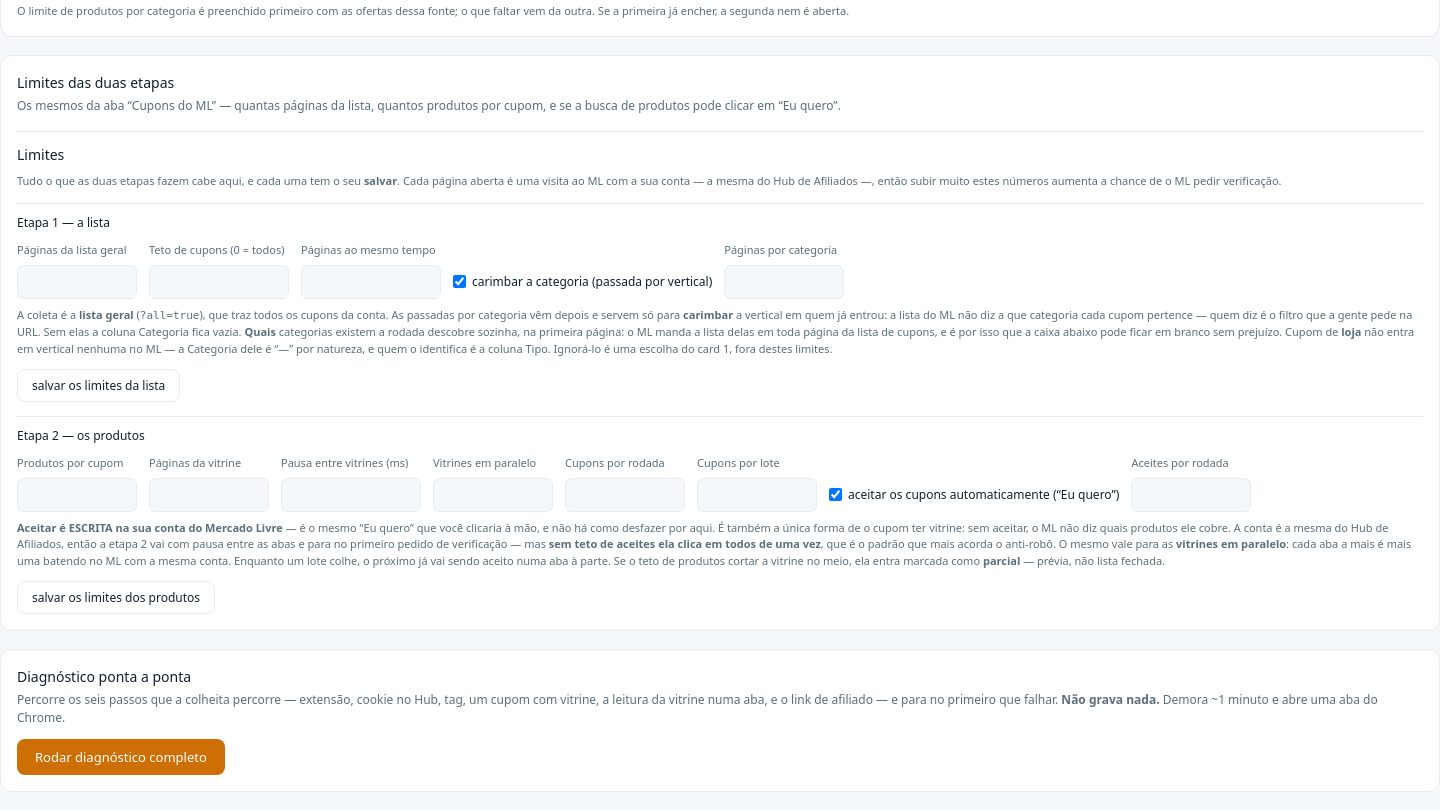
Scenario: o diagnóstico ponta a ponta › para no primeiro ❌ em vez de acumular erro derivado
The image size is (1440, 810).
(page scrolled)
Click the button "Rodar diagnóstico completo". click: (121, 757)
box: [17,739,225,775]
(page scrolled)
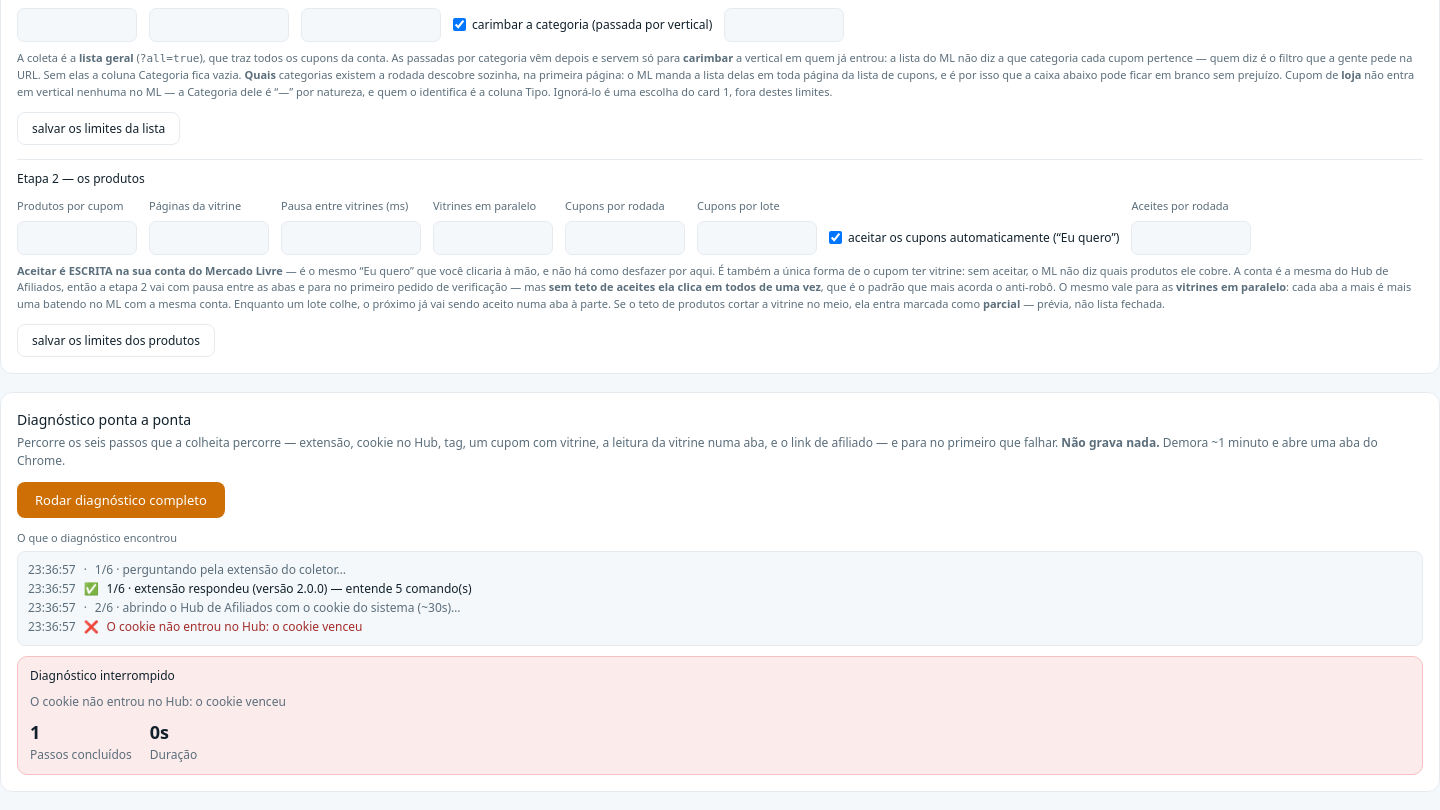
expect the text "Diagnóstico interrompido" is shown: met, box [30,666,175,684]
expect the text "O cookie não entrou no Hub: o cookie venceu" is shown 2 times: met, box [107,618,362,635]; [30,692,286,710]
